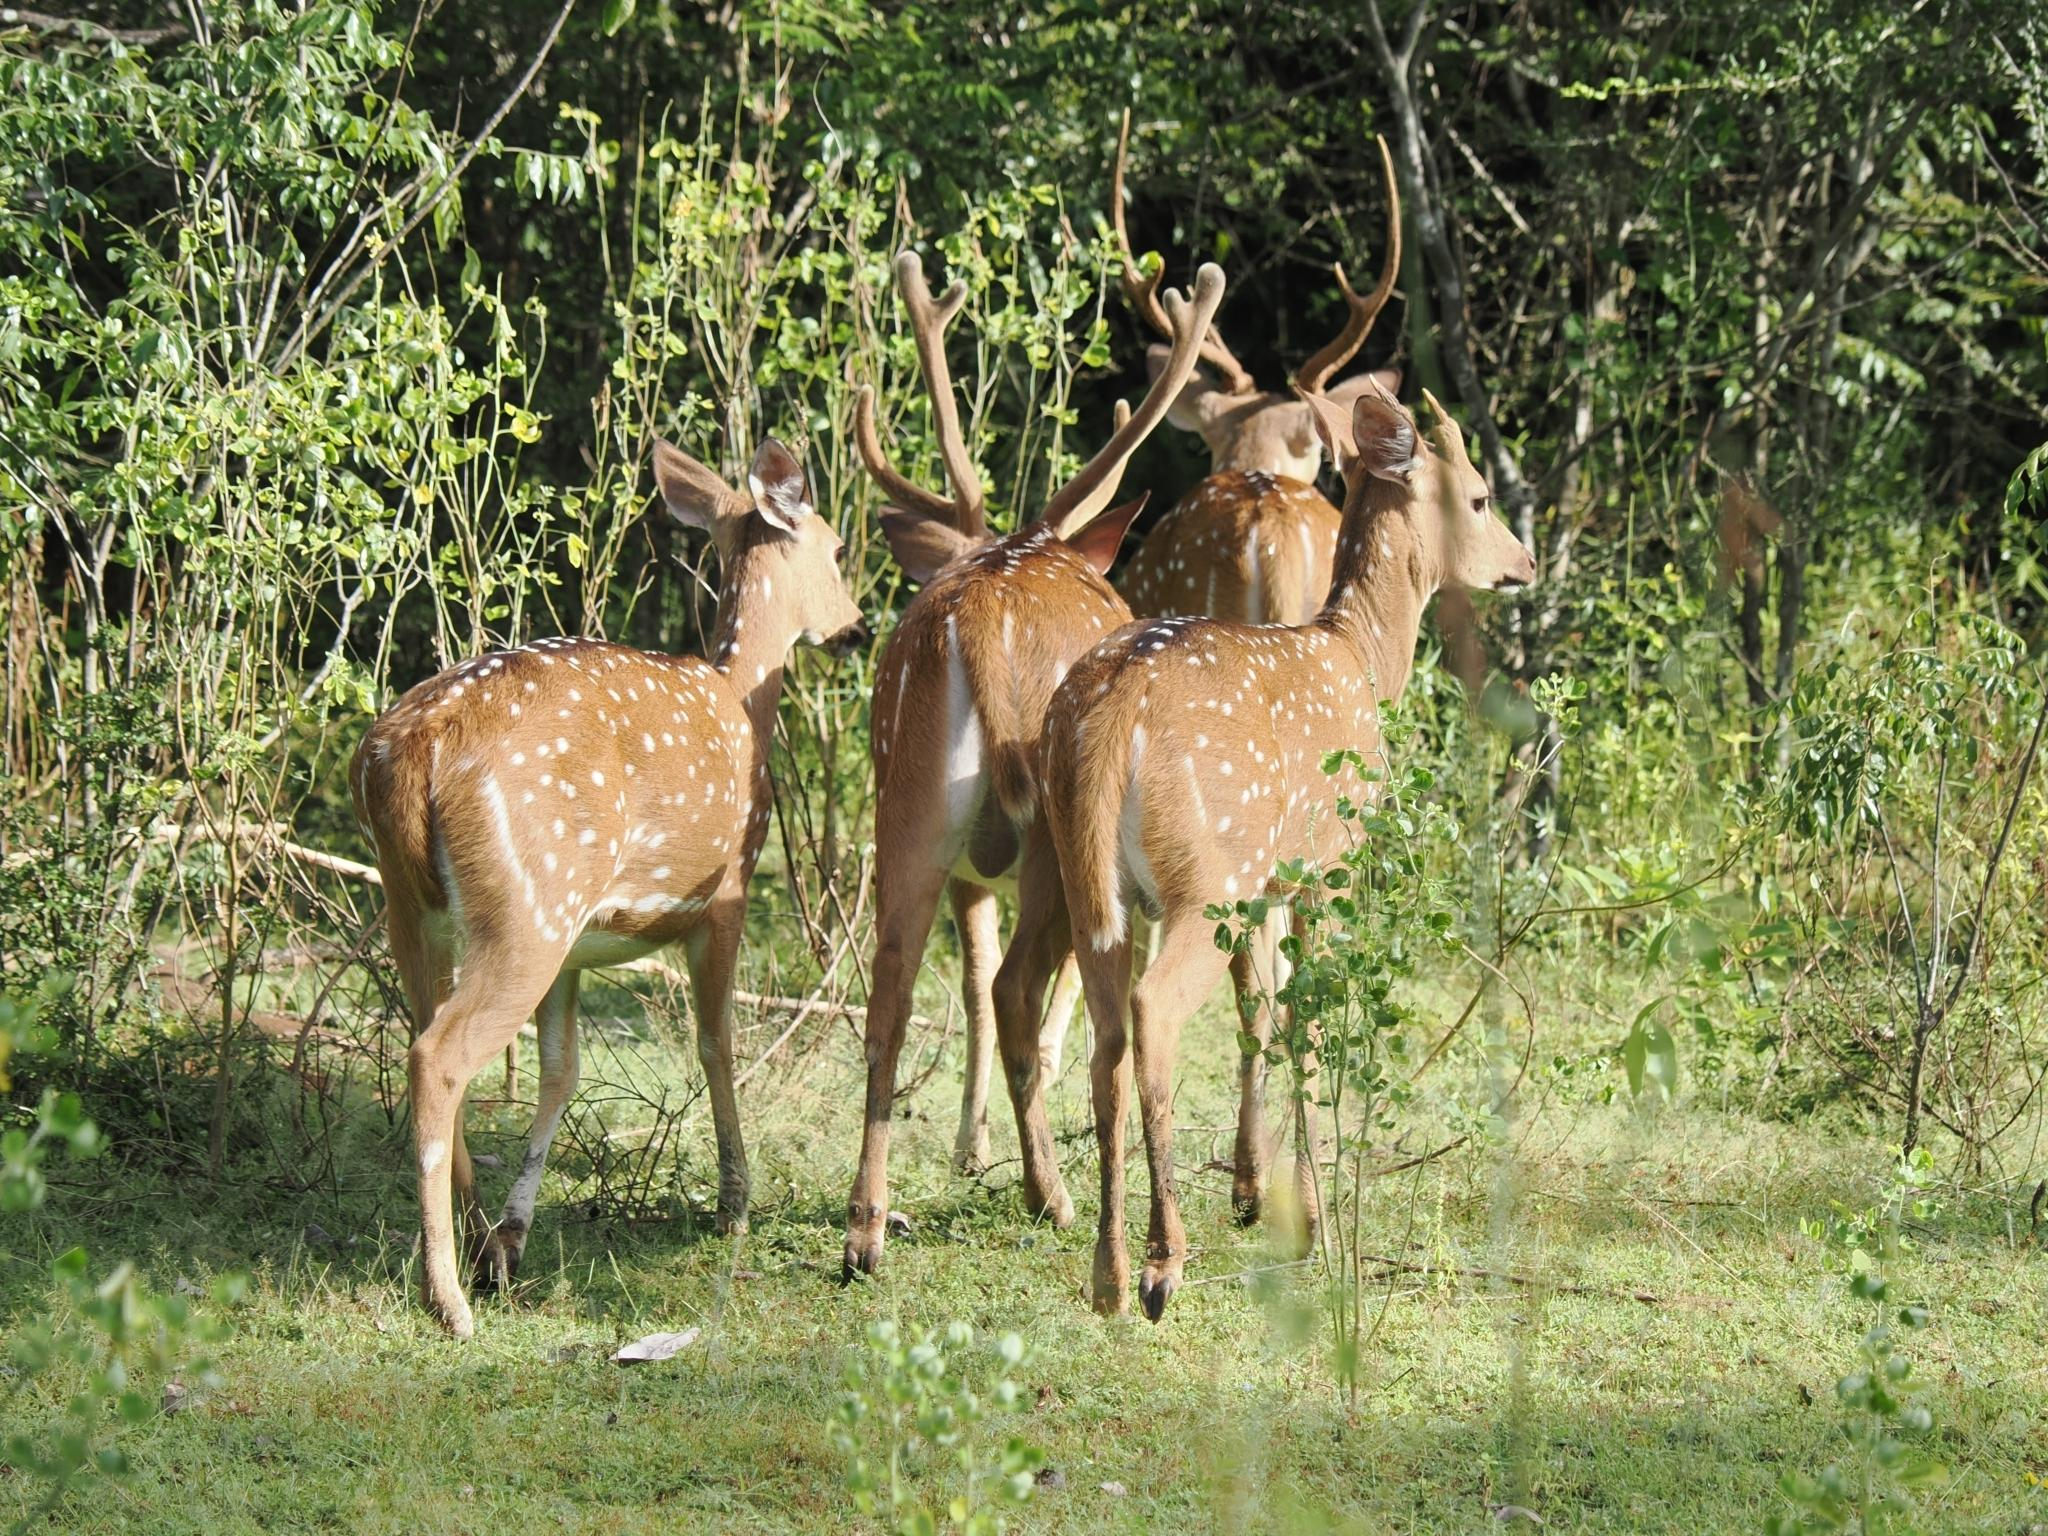Deer: (1042, 402, 1530, 1318), (353, 440, 822, 1334), (845, 457, 1132, 1271)
